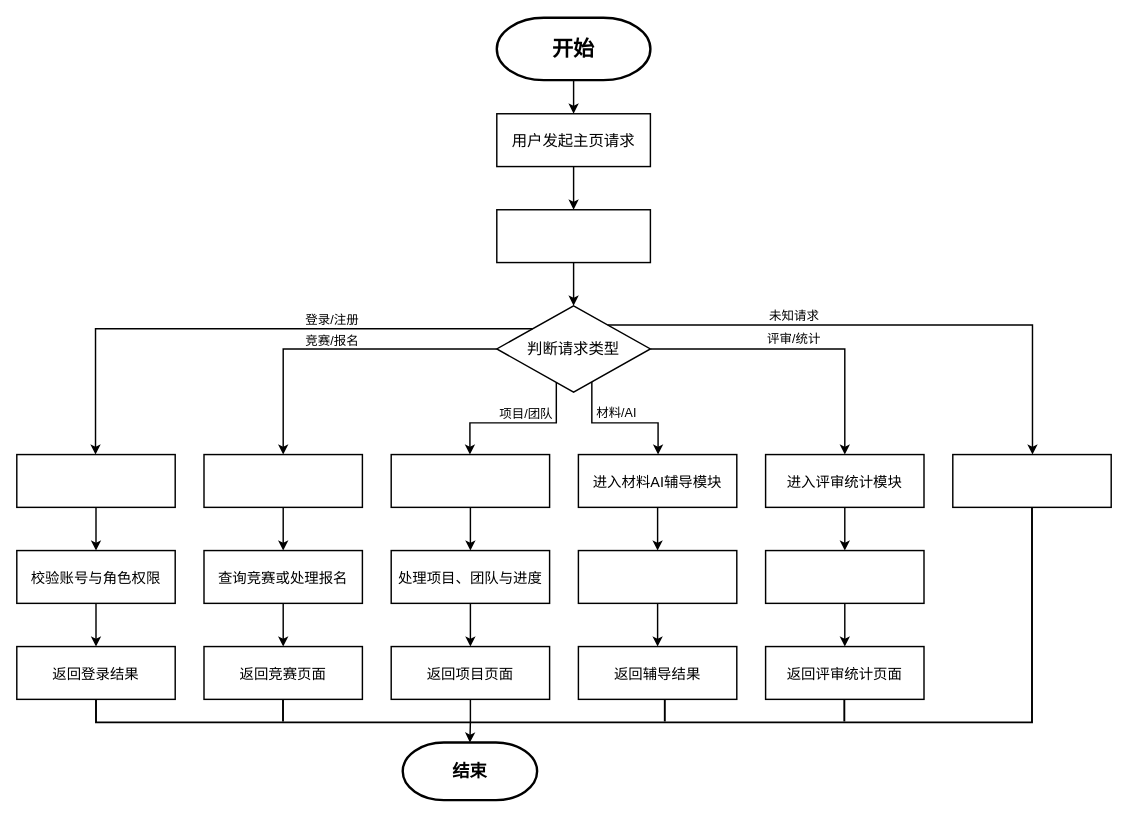
Some shapes in this 1129 by 818 pixel diagram are drawn without their labels. Here are the shapes that lost their labels. From the top down, the centre of each, then its label:
the point at 573,236: 系统接收请求
the point at 95,480: 进入登录认证模块
the point at 283,480: 进入竞赛报名模块
the point at 470,480: 进入项目团队模块
the point at 1031,480: 返回请求无效提示
the point at 657,576: 上传解析并调用AI
the point at 844,576: 处理评审或统计查询
